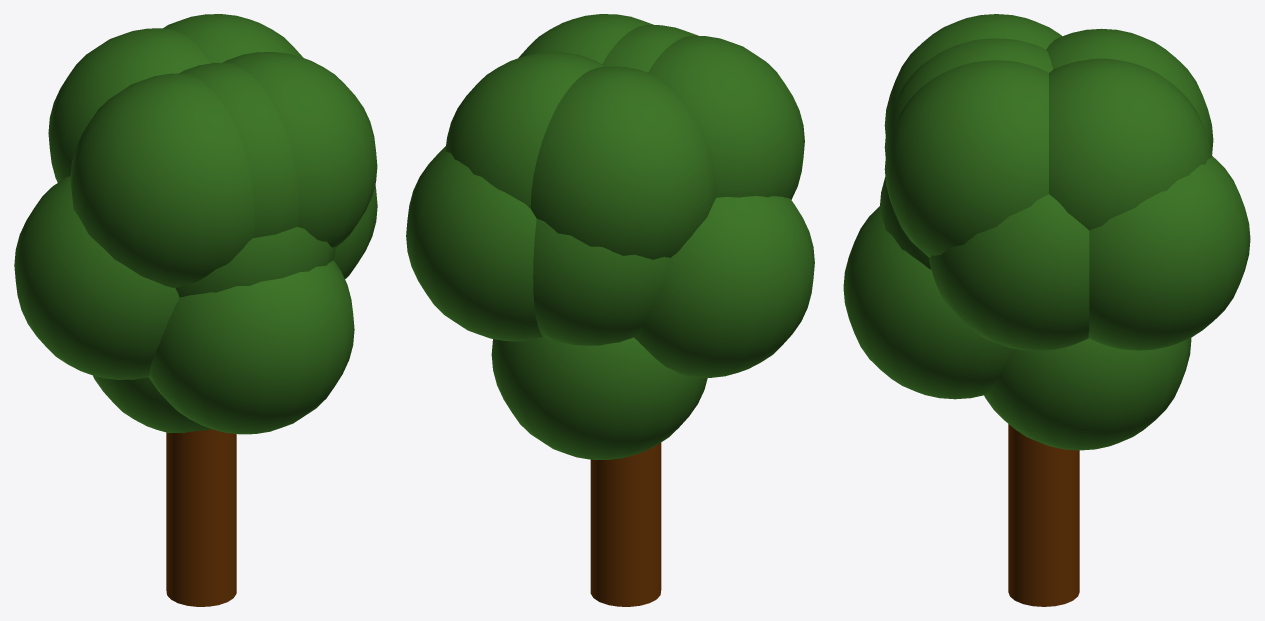
File: tree.fbx
The picture shows the model from 3 angles, left to right: view 1: azimuth 30°, elevation 25°; view 2: azimuth 150°, elevation 25°; view 3: azimuth 270°, elevation 25°; orthographic projection.
Visible parts, largest first — view 1: pSphere13; view 2: pSphere13; view 3: pSphere13.
Part boxes in pixels (x1,y1,x2,y2): pSphere13: [14, 14, 377, 606]; pSphere13: [406, 14, 814, 606]; pSphere13: [843, 14, 1250, 606].
Size of the model in its own units: 34.87 by 53.87 by 36.45.
